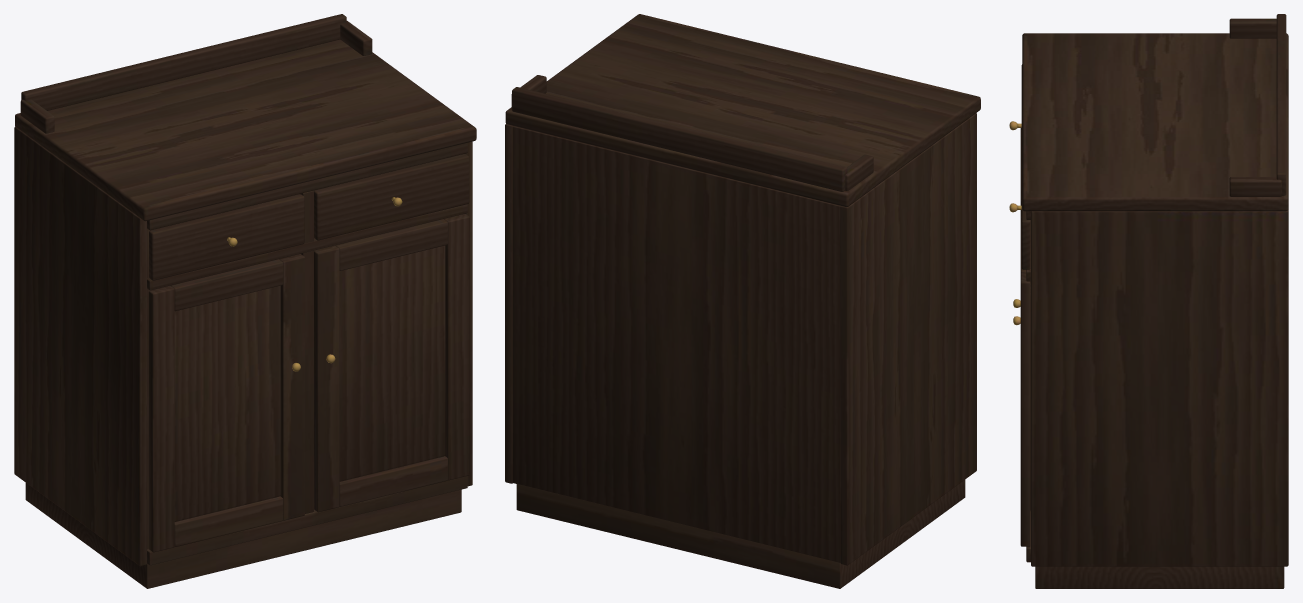
Rendered from w51altarcab2.glb.
3 views of the same model, side by side, from view 1: azimuth 30°, elevation 25°; view 2: azimuth 150°, elevation 25°; view 3: azimuth 270°, elevation 25° (orthographic). The views are drawn at different scales.
Parts seen in each view (by area): view 1: altarcab; view 2: altarcab; view 3: altarcab.
Part boxes in pixels (x1,y1,x2,y2): altarcab: (14,14,476,588); altarcab: (505,14,980,588); altarcab: (1009,14,1288,588).
Size of the model in its own units: 0.9001 by 1.05 by 0.6395.
1 material, 1 textured.
